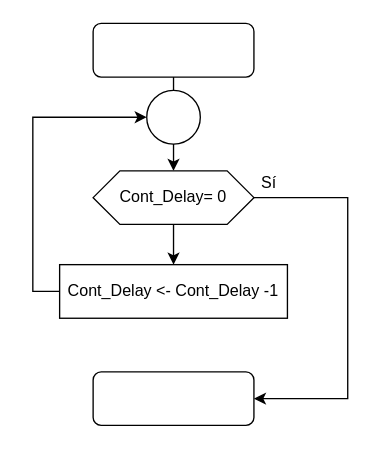
This 382x449 diagram has some shape labels left out. The shapes that lost their labels are listed below. From the top down, each one's centre as x and y in pixels, then its label:
(173,49): Delay
(173,398): Retorno
